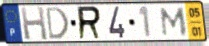1: (137, 5, 152, 40)
4: (107, 5, 127, 40)
D: (45, 5, 70, 42)
H: (19, 6, 49, 42)
M: (159, 7, 188, 38)
R: (76, 5, 103, 41)
